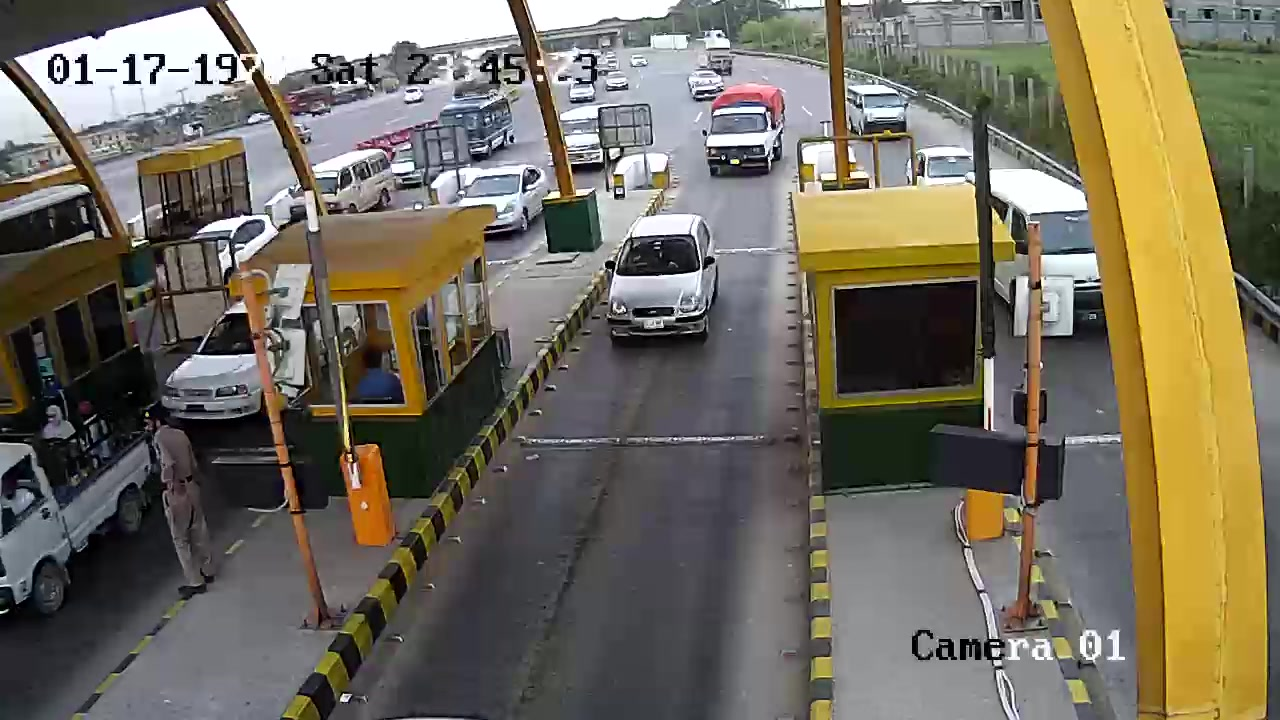F1: (600, 208, 721, 352)
